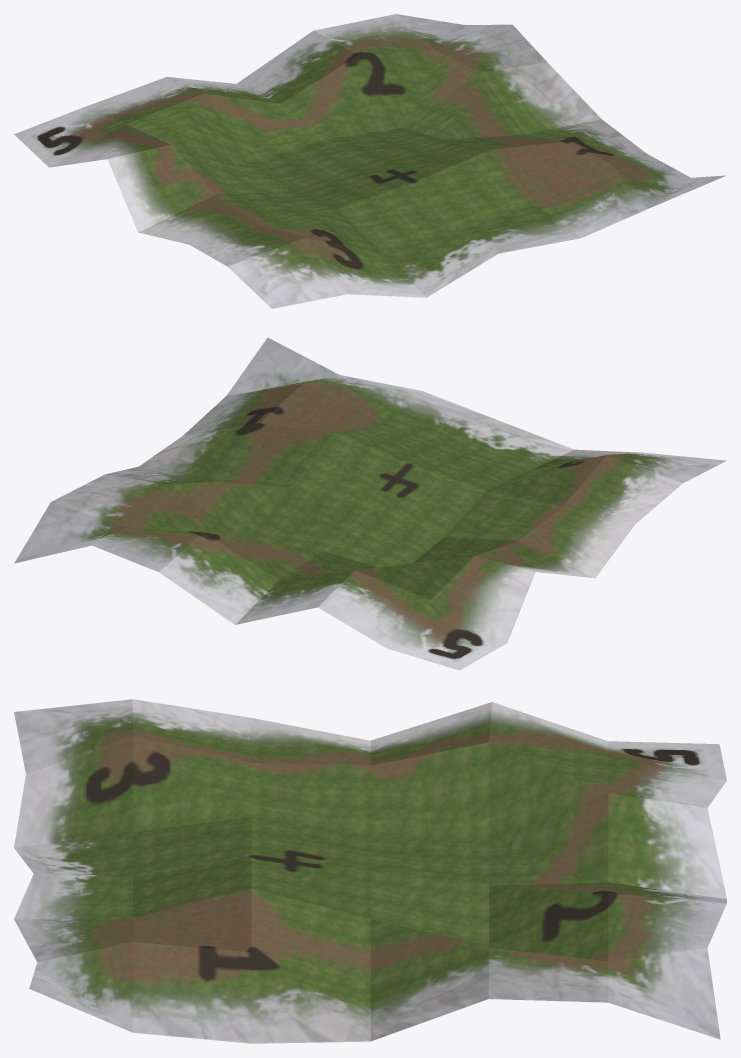
The model's file is paper1.gltf.
The picture shows the model from 3 angles, top to bottom: view 1: azimuth 30°, elevation 25°; view 2: azimuth 150°, elevation 25°; view 3: azimuth 270°, elevation 25°; orthographic projection. The views are drawn at different scales.
Parts seen in each view (by area): view 1: Plane; view 2: Plane; view 3: Plane.
Part boxes in pixels (x1,y1,x2,y2): Plane: (14, 14, 726, 308); Plane: (14, 337, 726, 670); Plane: (14, 699, 726, 1043).
Bounding box in the file's own units: 0.2783 × 0.0271 × 0.2783.
Materials: 1 (1 with a texture image).
